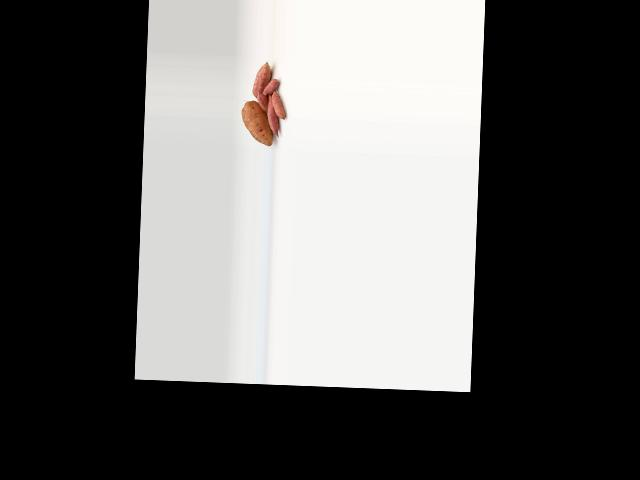sweet_potato: (252, 59, 271, 97)
